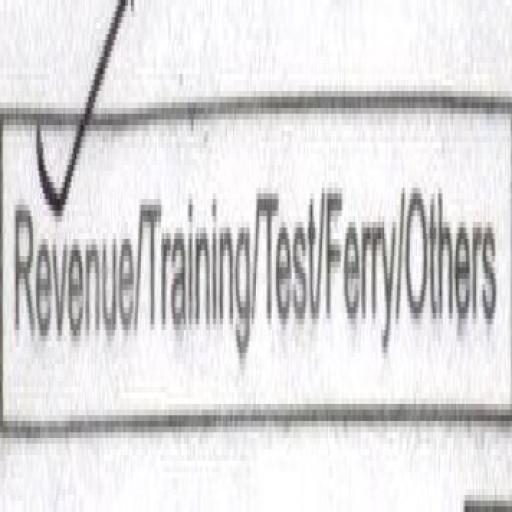check: (0, 8, 137, 428)
